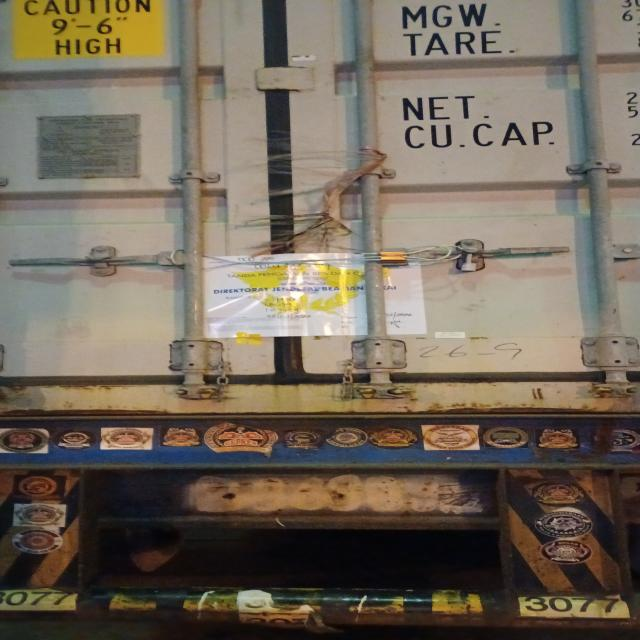seal: (453, 247, 482, 272)
